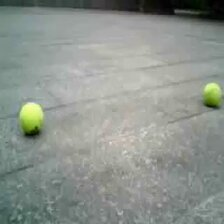tennis: (20, 105, 42, 132), (202, 82, 224, 104)
